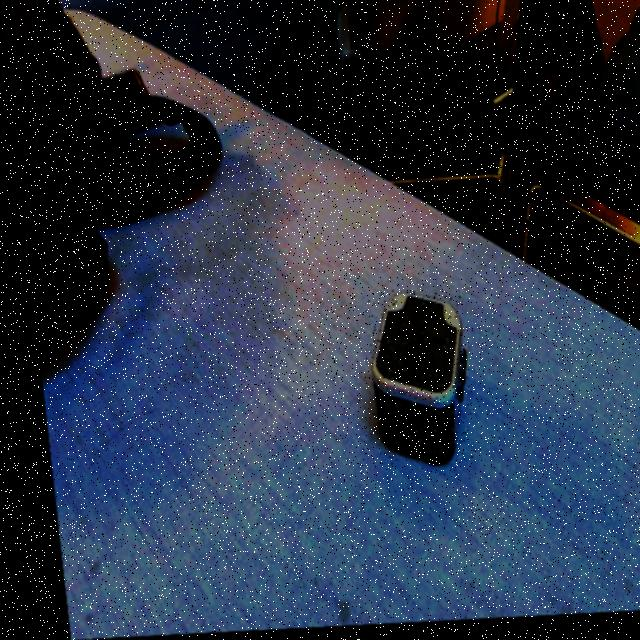adapter: (354, 292, 467, 472)
